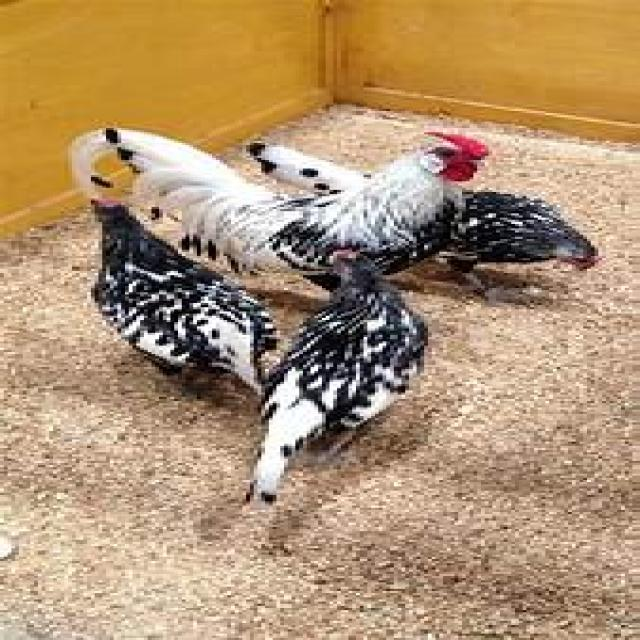chicken: (84, 124, 492, 294), (242, 132, 602, 297), (239, 247, 428, 512), (84, 194, 280, 397)
